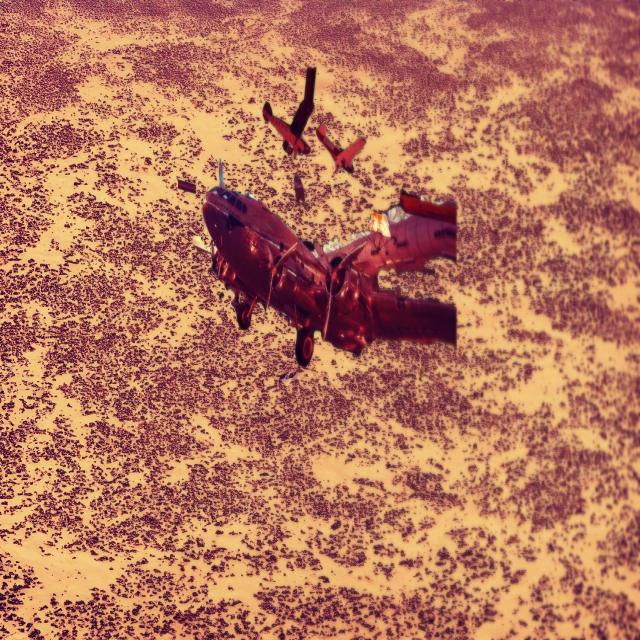airplane: (183, 158, 458, 366), (262, 65, 317, 158), (316, 122, 366, 174)
